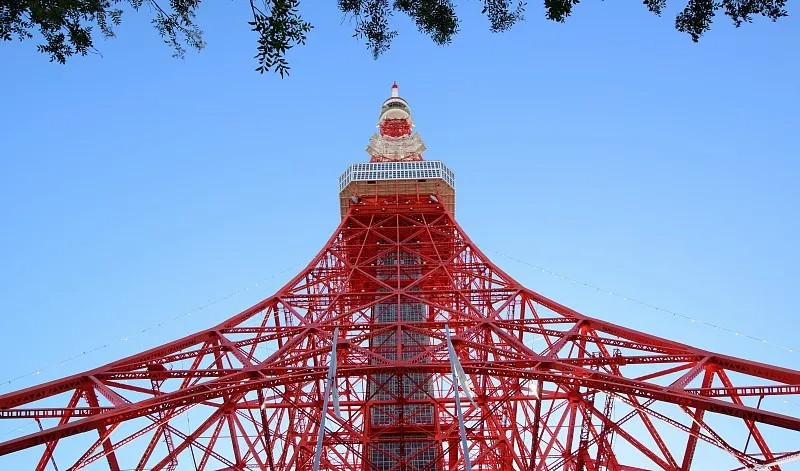Tokyo: (1, 76, 800, 471)
